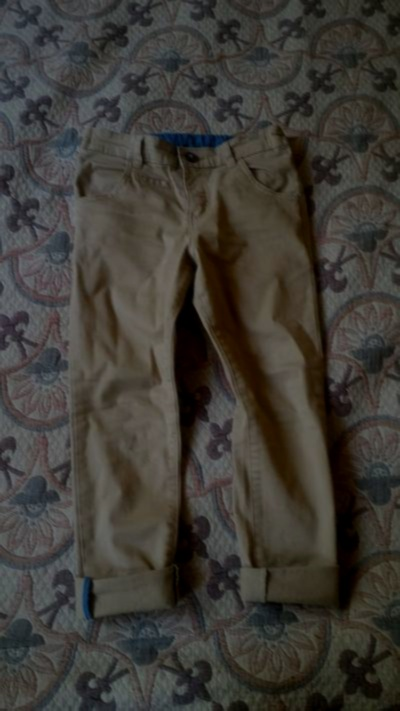Pants: (44, 76, 366, 636)
